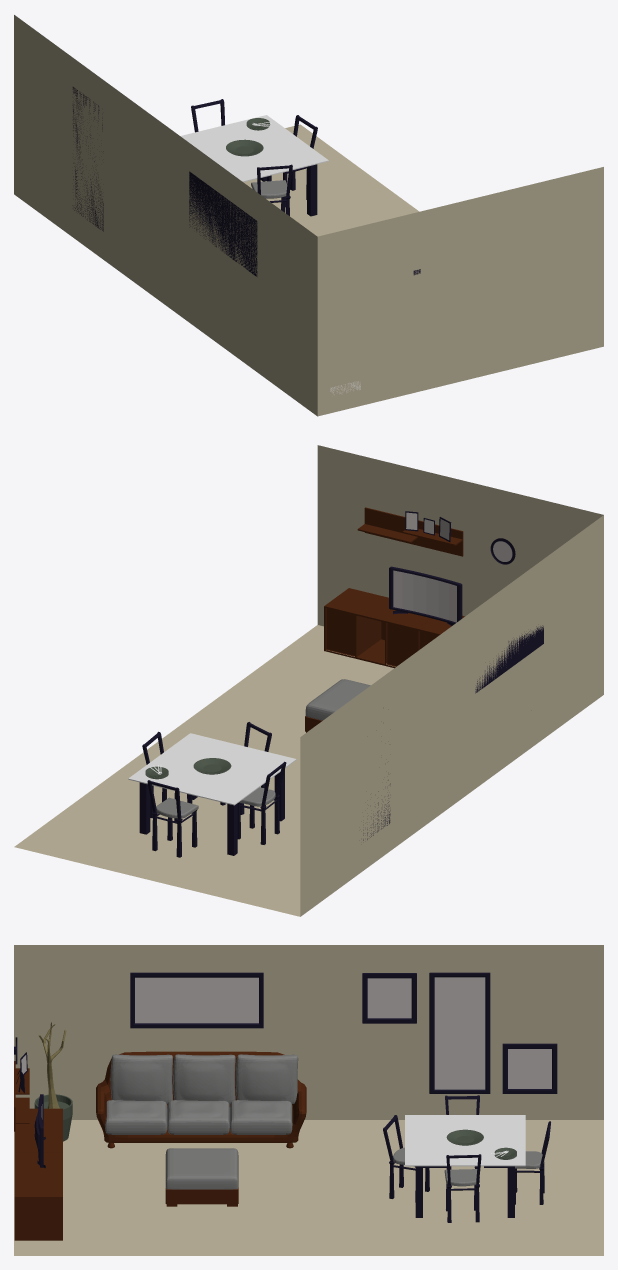
Rendered from room.glb.
The picture shows the model from 3 angles, top to bottom: view 1: azimuth 30°, elevation 25°; view 2: azimuth 150°, elevation 25°; view 3: azimuth 270°, elevation 25°; orthographic projection. The views are drawn at different scales.
Visible parts, largest first — view 1: room, table, paint1, chair3, paint4; view 2: room, table, armario2, tv, polca, chai1, puff, chair2, paint1; view 3: room, sofa.encostar1, paint1, paint4, sofa.t.sit, table, armario2, puff, sofa.frame, paint3, paint3.001, armario1 (+8 smaller).
Boxes of the visible parts, x1,y1,x2,y2 form: room: (14,15,603,416); table: (180,115,328,216); paint1: (189,171,257,276); chair3: (251,164,292,215); paint4: (72,87,103,231); room: (14,445,603,916); table: (128,733,296,855); armario2: (324,588,431,668); tv: (389,566,462,626); polca: (357,507,463,556); chai1: (147,780,198,857); puff: (305,679,370,732); chair2: (237,761,286,844); paint1: (475,625,543,693); room: (14,945,603,1255); sofa.encostar1: (110,1054,298,1104); paint1: (130,972,263,1028); paint4: (429,972,490,1093); sofa.t.sit: (105,1100,292,1134); table: (405,1115,525,1217); armario2: (14,1153,62,1240); puff: (165,1148,238,1206); sofa.frame: (96,1051,306,1148); paint3: (502,1043,557,1093); paint3.001: (362,973,416,1023); armario1: (14,1108,62,1152).
Bounding box in the file's own units: 400 × 240 × 734.
